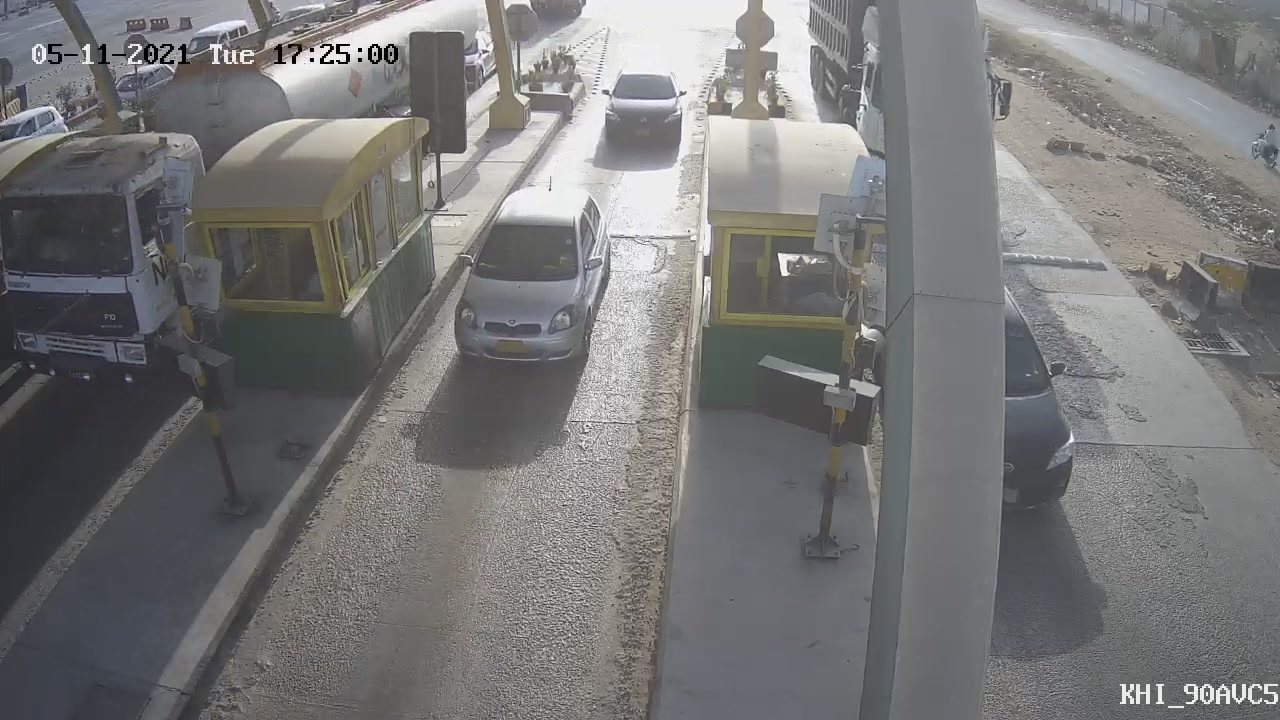F1: (426, 164, 631, 390)
